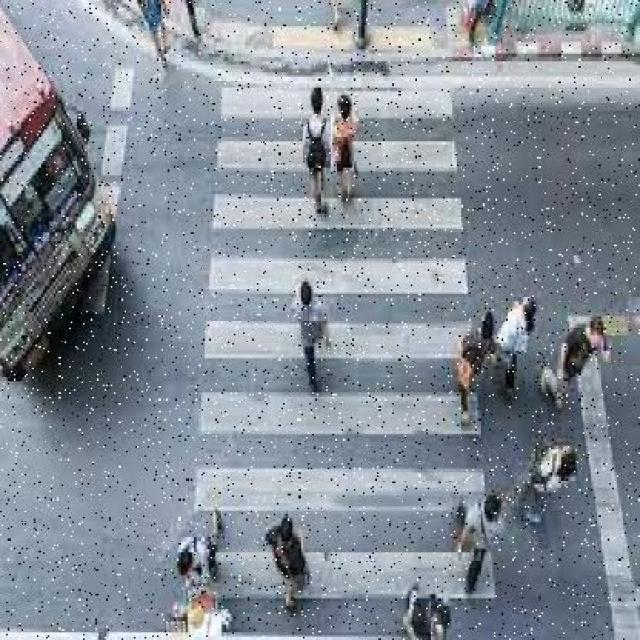crosswalk: (191, 84, 500, 640)
